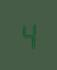four: (19, 20, 36, 49)
